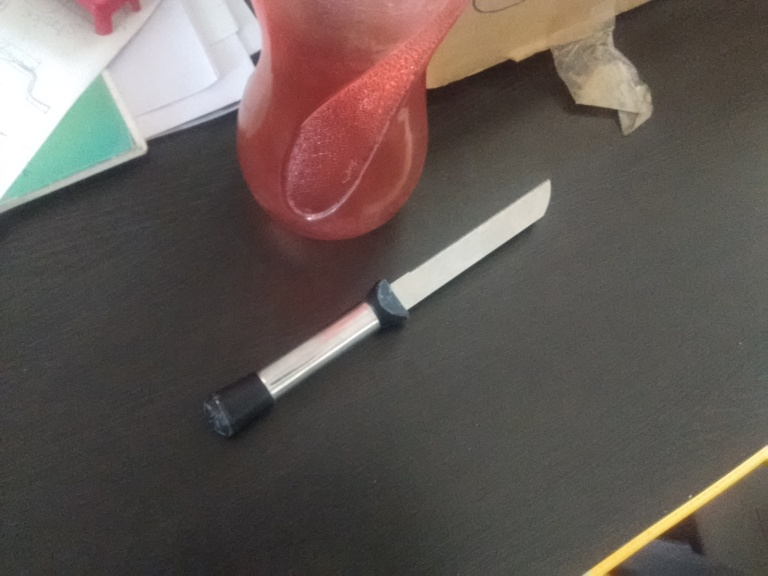knife: (198, 175, 553, 438)
